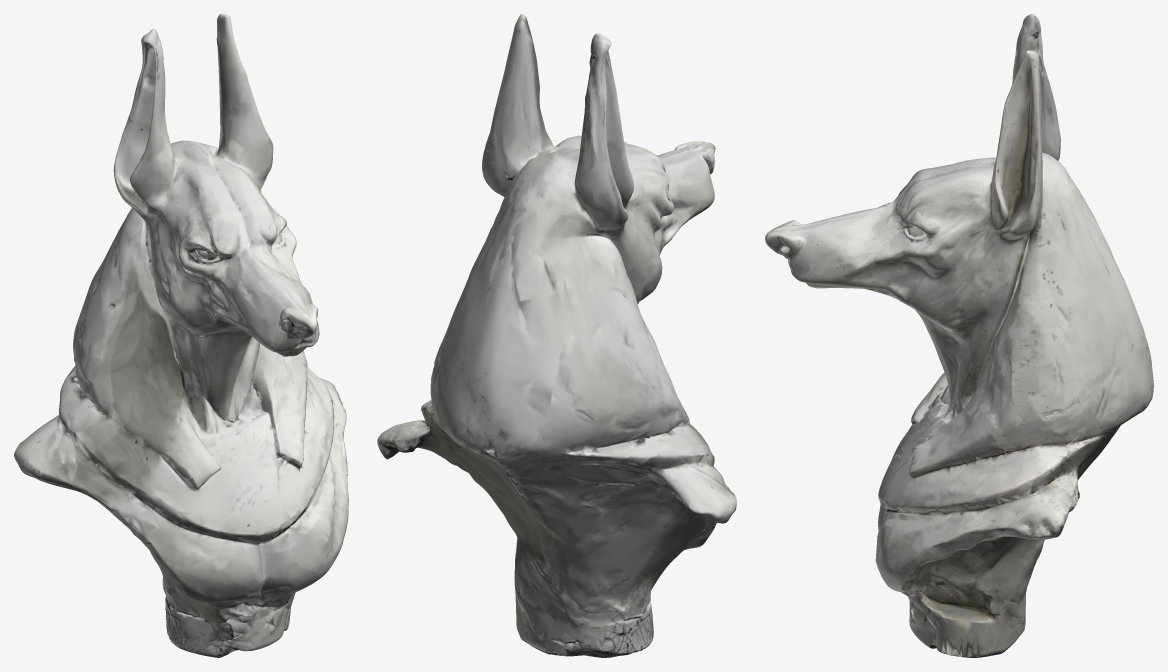
Rendered from anubis.glb.
The picture shows the model from 3 angles, left to right: view 1: azimuth 30°, elevation 25°; view 2: azimuth 150°, elevation 25°; view 3: azimuth 270°, elevation 25°; orthographic projection. The views are drawn at different scales.
Visible parts, largest first — view 1: tripo_node_5d9135a5-e8fe-43fd-b7a5-7e68f9b9cd91; view 2: tripo_node_5d9135a5-e8fe-43fd-b7a5-7e68f9b9cd91; view 3: tripo_node_5d9135a5-e8fe-43fd-b7a5-7e68f9b9cd91.
Part boxes in pixels (x1,y1,x2,y2): tripo_node_5d9135a5-e8fe-43fd-b7a5-7e68f9b9cd91: (14, 14, 348, 657); tripo_node_5d9135a5-e8fe-43fd-b7a5-7e68f9b9cd91: (377, 14, 736, 657); tripo_node_5d9135a5-e8fe-43fd-b7a5-7e68f9b9cd91: (765, 14, 1153, 657).
Size of the model in its own units: 0.5525 by 0.98 by 0.5761.
Materials: 1 (1 with a texture image).
